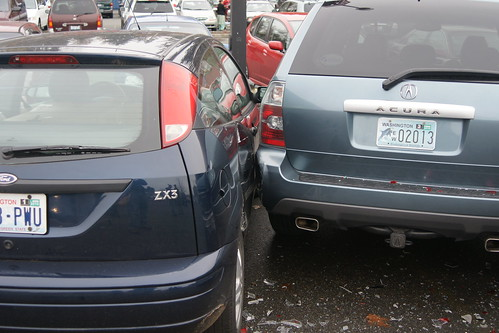car: (1, 34, 267, 318), (263, 1, 499, 240)
